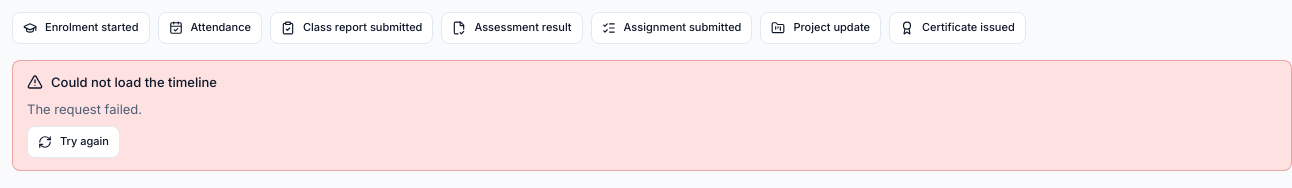
Test: StudentTimeline › shows an error state with a retry that re-fetches
The width and height of the screenshot is (1292, 188).
Expected: the text "Could not load the timeline" is shown, [27, 74, 217, 90]
Click the button "Try again". click: click(74, 142)
box: [27, 126, 120, 158]
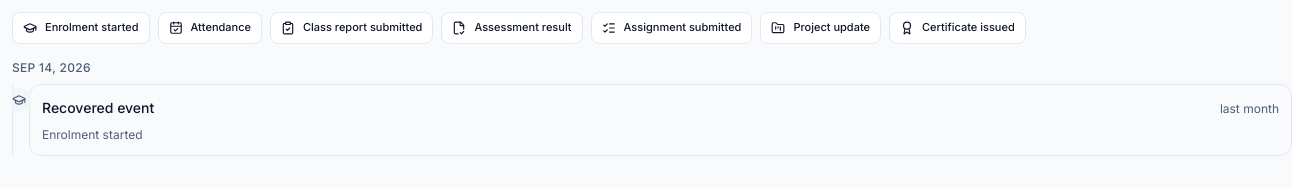
Expected: the text "Recovered event" is shown, [42, 97, 154, 119]
